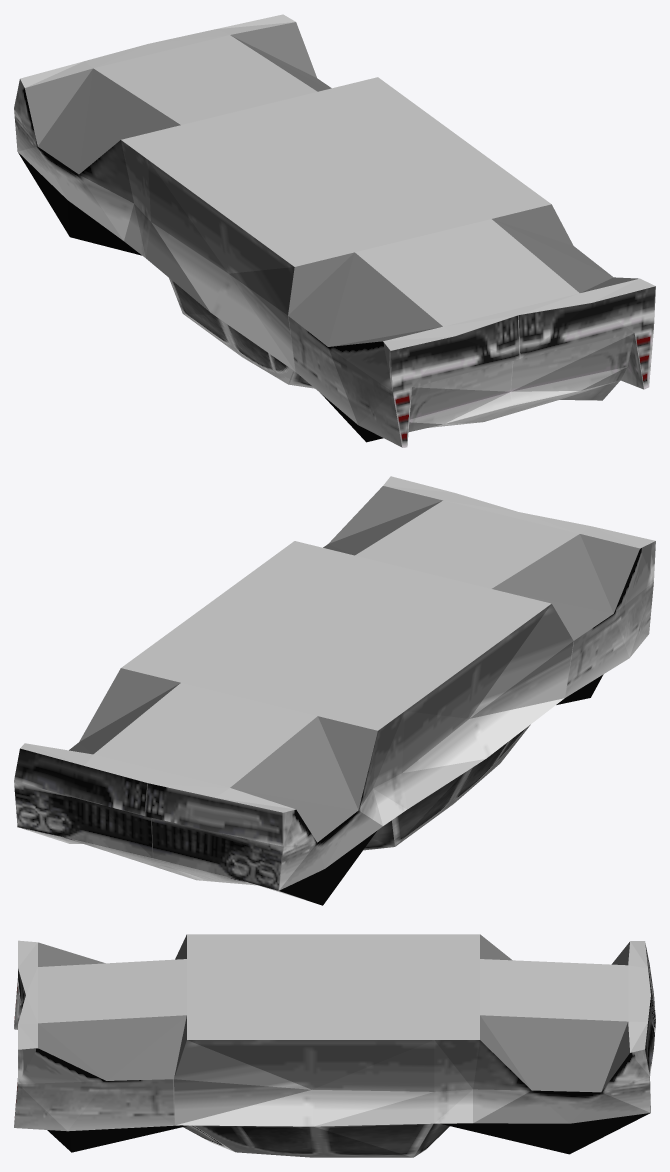
File: HAVANA_model0_damaged.obj
3 renders of one model, top to bottom at view 1: azimuth 30°, elevation 25°; view 2: azimuth 150°, elevation 25°; view 3: azimuth 270°, elevation 25°, orthographic. The views are drawn at different scales.
Parts seen in each view (by area): view 1: HAVANA_model0_damaged; view 2: HAVANA_model0_damaged; view 3: HAVANA_model0_damaged.
Boxes of the visible parts, box(x1,y1,x2,y2) form: HAVANA_model0_damaged: box(14, 14, 655, 447); HAVANA_model0_damaged: box(14, 476, 655, 905); HAVANA_model0_damaged: box(14, 934, 655, 1157).
Bounding box in the file's own units: 280 × 176 × 646.
Materials: 15 (13 with a texture image).
